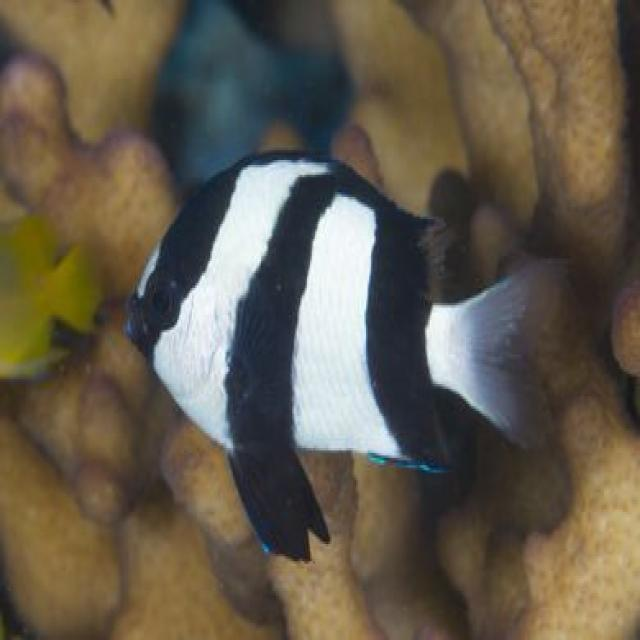ThreeStripedDamselfish: (125, 153, 533, 564)
